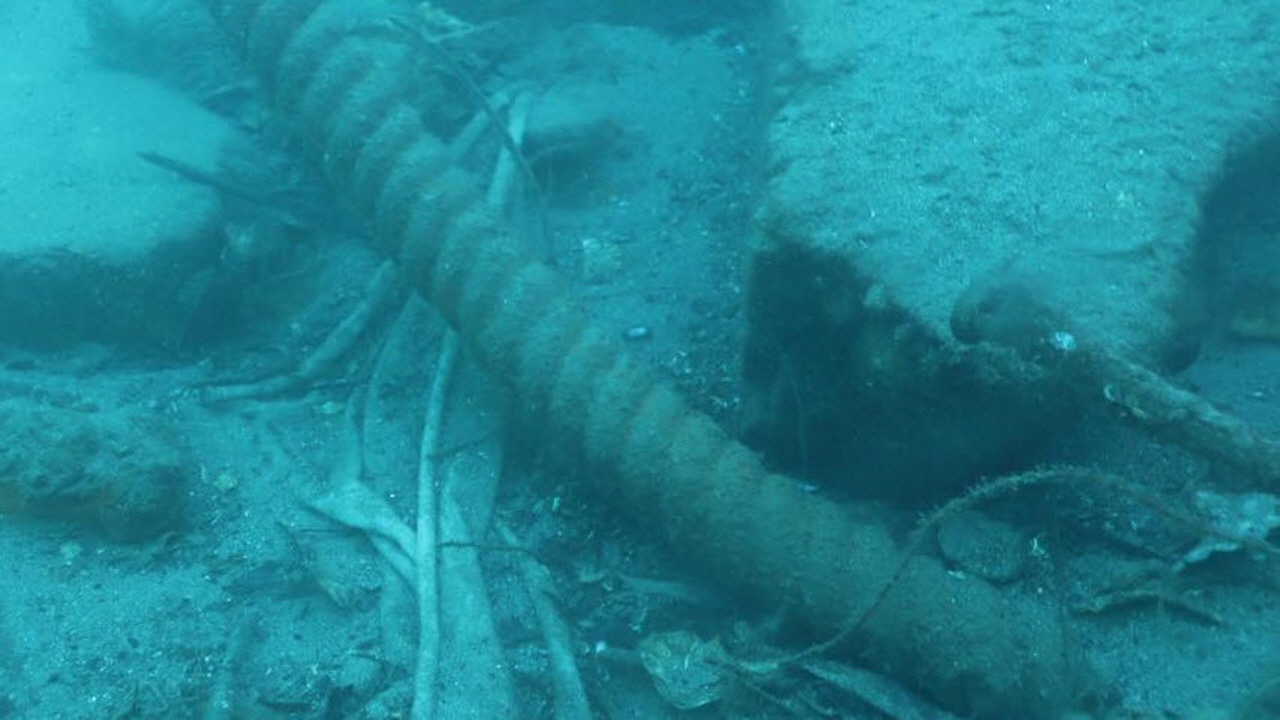rope: (198, 0, 1073, 718)
